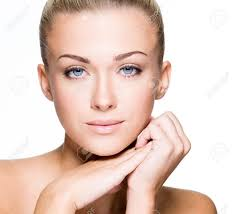white_female: (50, 32, 162, 148)
